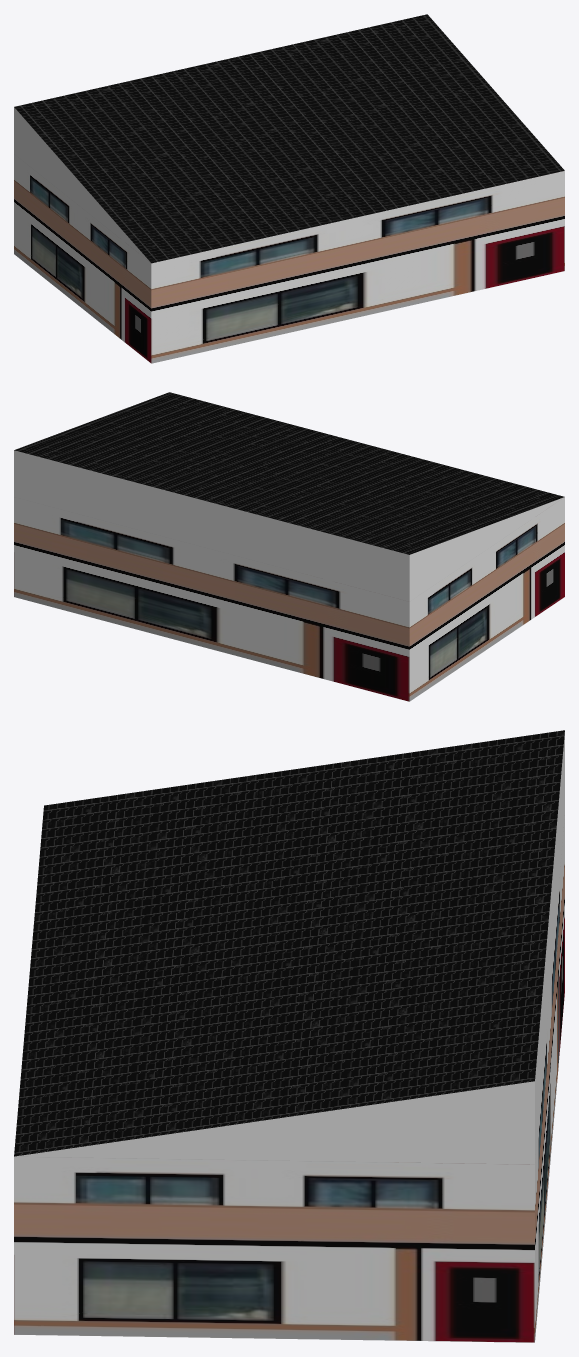
3 views of the same model, one above another, from view 1: azimuth 30°, elevation 25°; view 2: azimuth 150°, elevation 25°; view 3: azimuth 270°, elevation 25° (orthographic). The views are drawn at different scales.
Visible parts, largest first — view 1: CityEngineMaterial_14_m, CityEngineMaterial_5_m, CityEngineMaterial_3_m; view 2: CityEngineMaterial_5_m, CityEngineMaterial_14_m, CityEngineMaterial_3_m; view 3: CityEngineMaterial_14_m, CityEngineMaterial_5_m, CityEngineMaterial_3_m.
Part boxes in pixels (left/top/right/bottom): CityEngineMaterial_14_m: left=14, top=14, right=564, bottom=263; CityEngineMaterial_5_m: left=14, top=154, right=564, bottom=363; CityEngineMaterial_3_m: left=14, top=107, right=150, bottom=262; CityEngineMaterial_5_m: left=14, top=497, right=564, bottom=701; CityEngineMaterial_14_m: left=14, top=392, right=564, bottom=554; CityEngineMaterial_3_m: left=14, top=450, right=563, bottom=601; CityEngineMaterial_14_m: left=14, top=730, right=564, bottom=1156; CityEngineMaterial_5_m: left=14, top=815, right=564, bottom=1342; CityEngineMaterial_3_m: left=15, top=732, right=564, bottom=1164.
Size of the model in its own units: 38.78 by 13.17 by 25.15.
